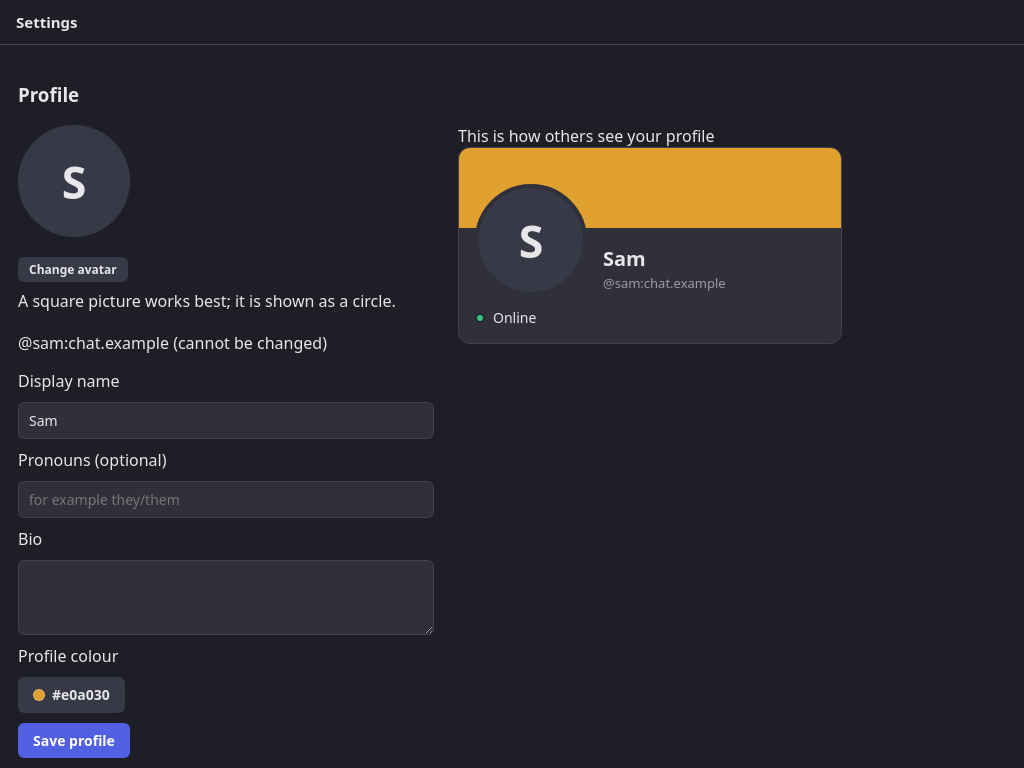
it: Settings -> Profile › saves the name, bio, pronouns and colour together, then refreshes the signed-in user
This screenshot has width=1024, height=768.
Replace the text in the field showing "Sam" with "Samantha": (226, 421) [18,402,434,439]
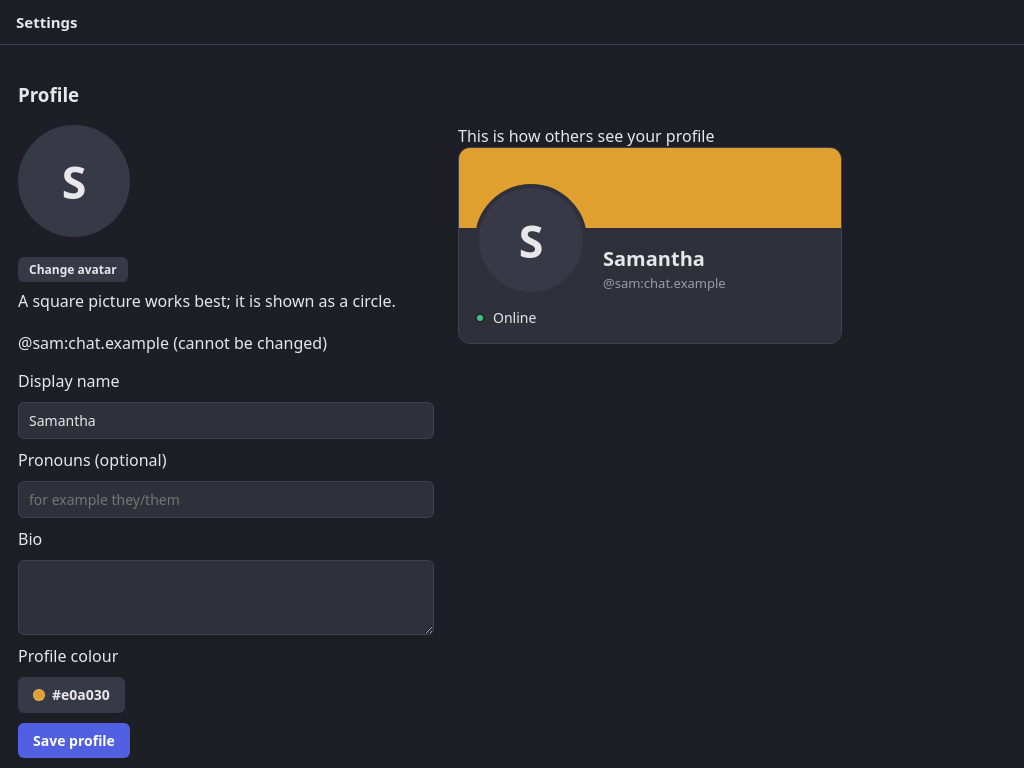
In the field labelled "Pronouns (optional)": (226, 500) [18,481,434,518], type "  she/her "
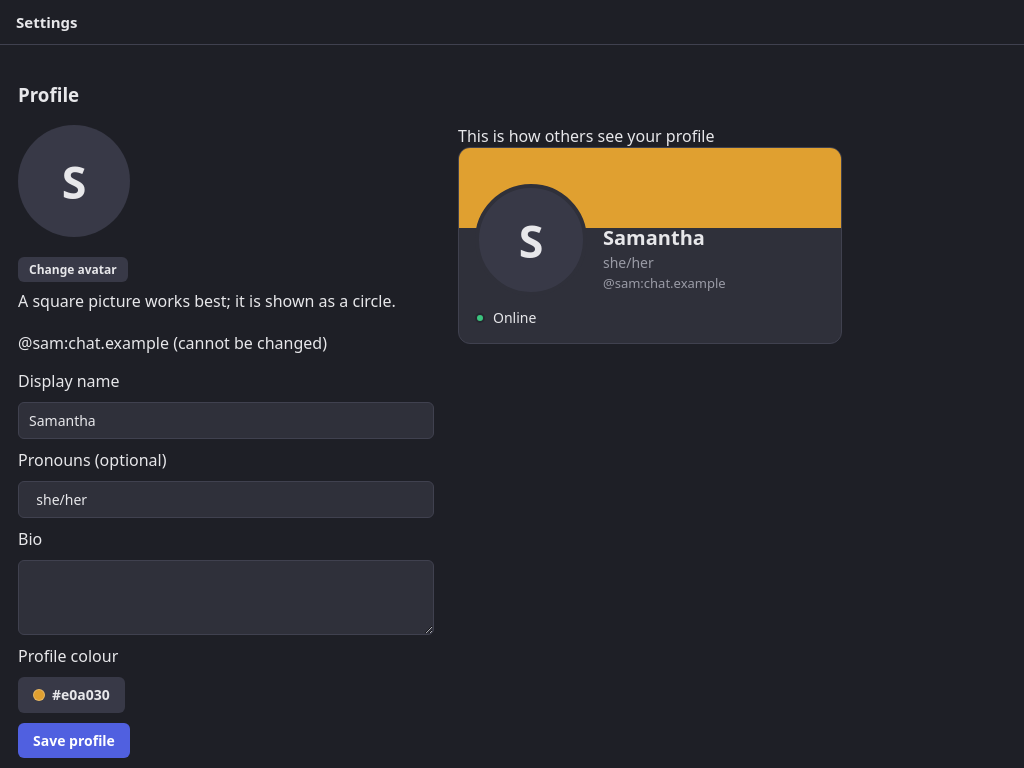
In the text box labelled "Bio": (226, 598) [18,560,434,635], type "Cartographer"
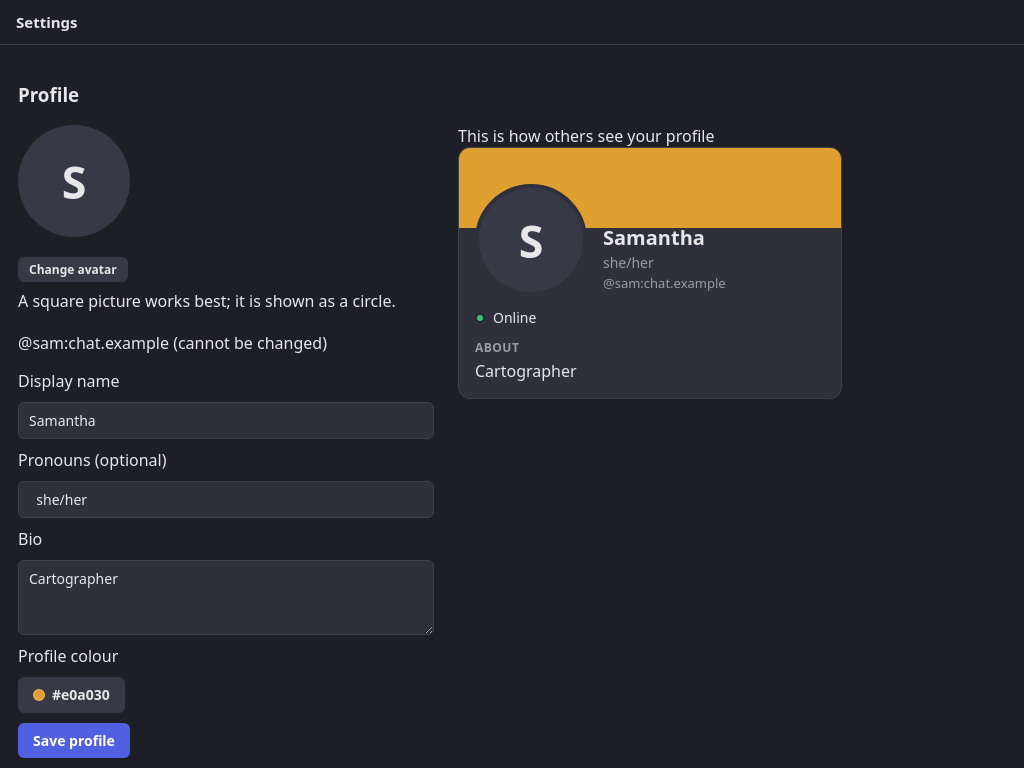
Click the button "Save profile": (74, 741) [18,723,130,758]
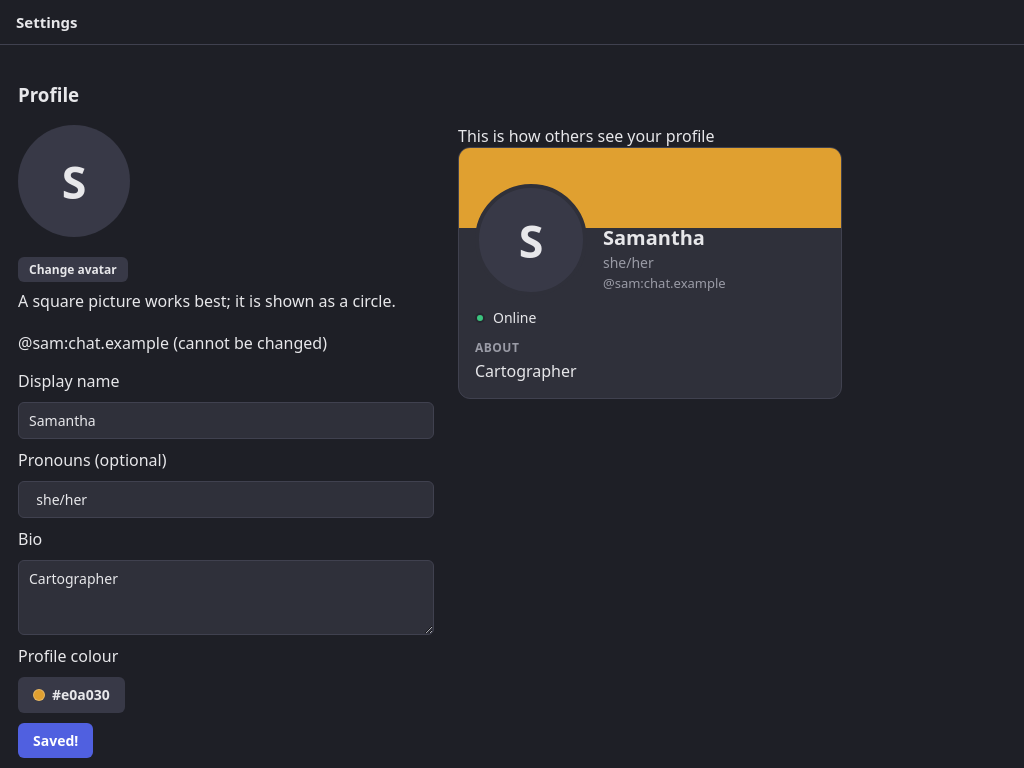
Now the button "Saved!" is shown, box [18,723,93,758]
